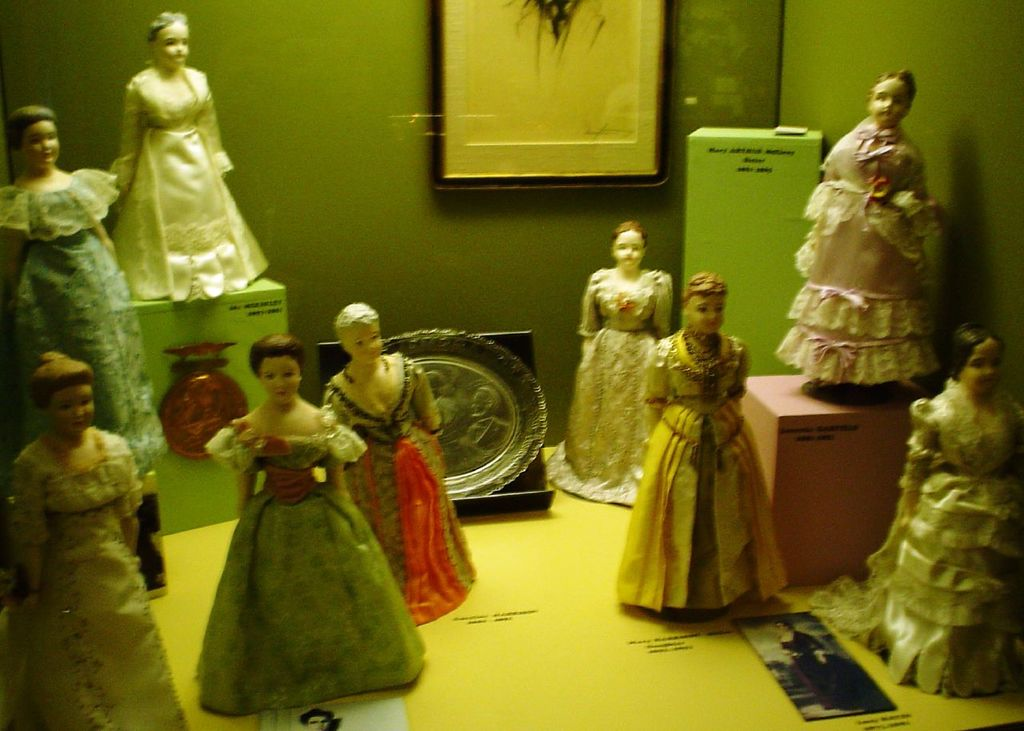person: (0, 103, 157, 448)
